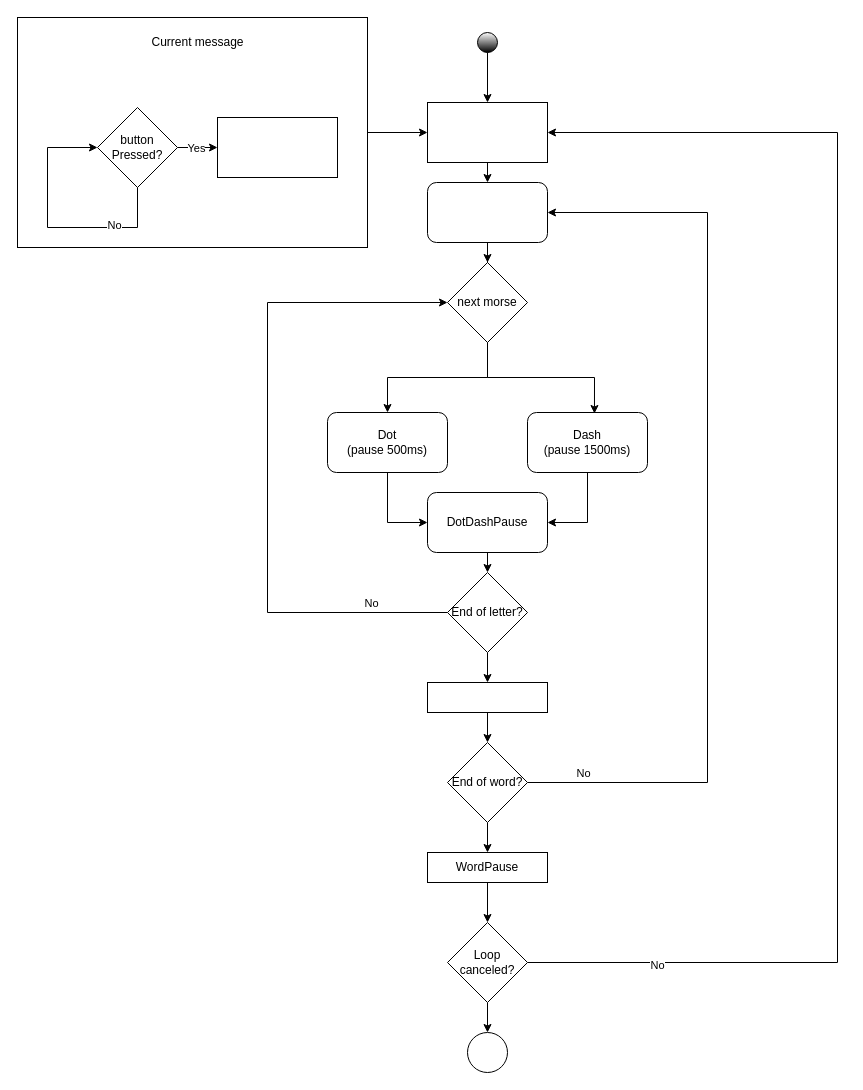
Some shapes in this 863 by 1090 pixel diagram are drawn without their labels. The shapes that lost their labels are listed below. From the top down, each one's centre as x and y in pixels, then its label:
At point 277,147: "Change to other message".
At point 487,132: "Message".
At point 487,212: "get letter".
At point 487,697: "LetterPause".
At point 487,1052: "End".
